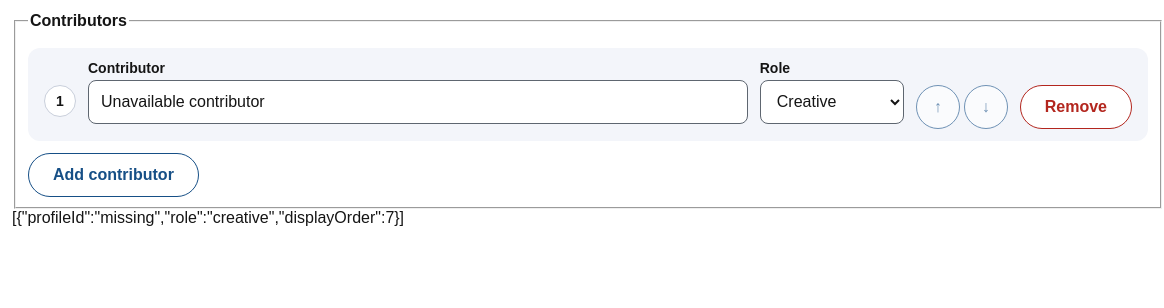
keeps role edits when guest creation completes and allows adding without a catalog
Replace the text in the dropdown named "Contributor 1" with "Slow Guest". click: (418, 102)
box: [88, 80, 748, 124]
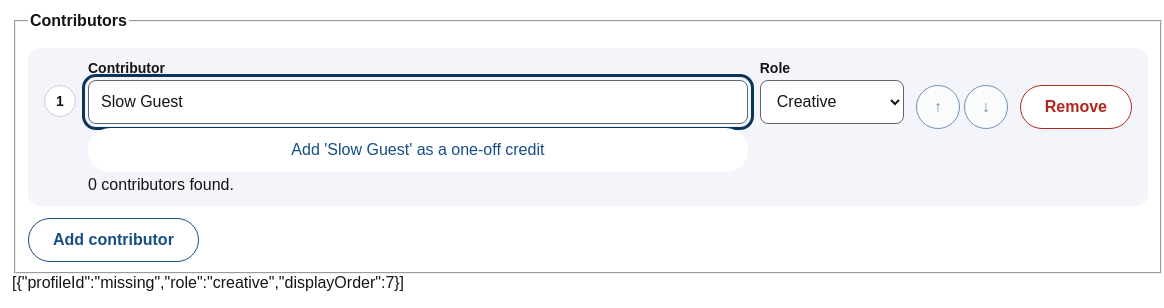
Click the option "Add 'Slow Guest' as a one-off credit". click: (418, 150)
box: [88, 128, 748, 172]
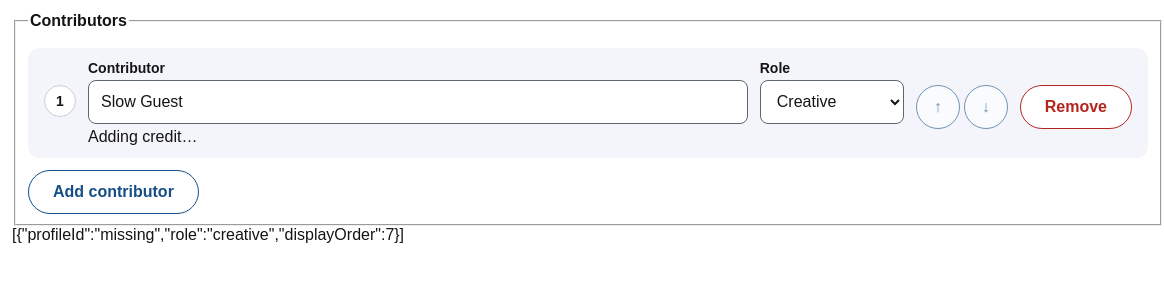
Select "Editor" in the dropdown named "Role 1". click: (832, 102)
box: [760, 80, 904, 124]
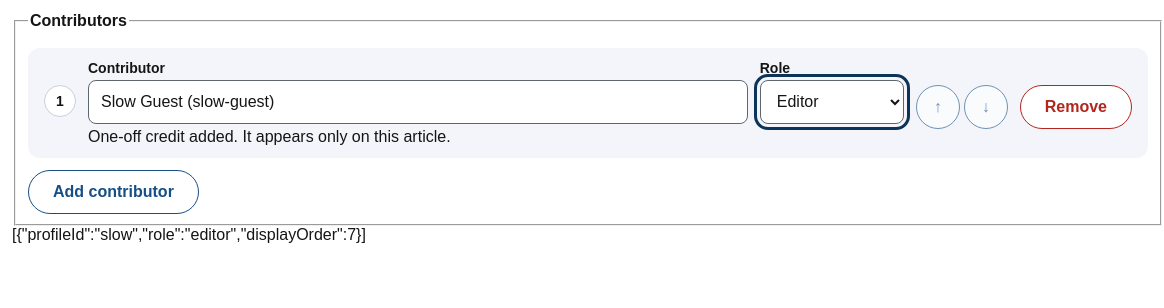
Expected: the dropdown showing "Slow Guest (slow-guest)" is shown, [88, 80, 748, 124]
